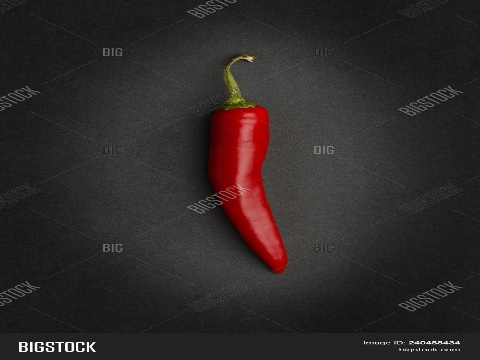Chilli: (184, 53, 313, 284)
